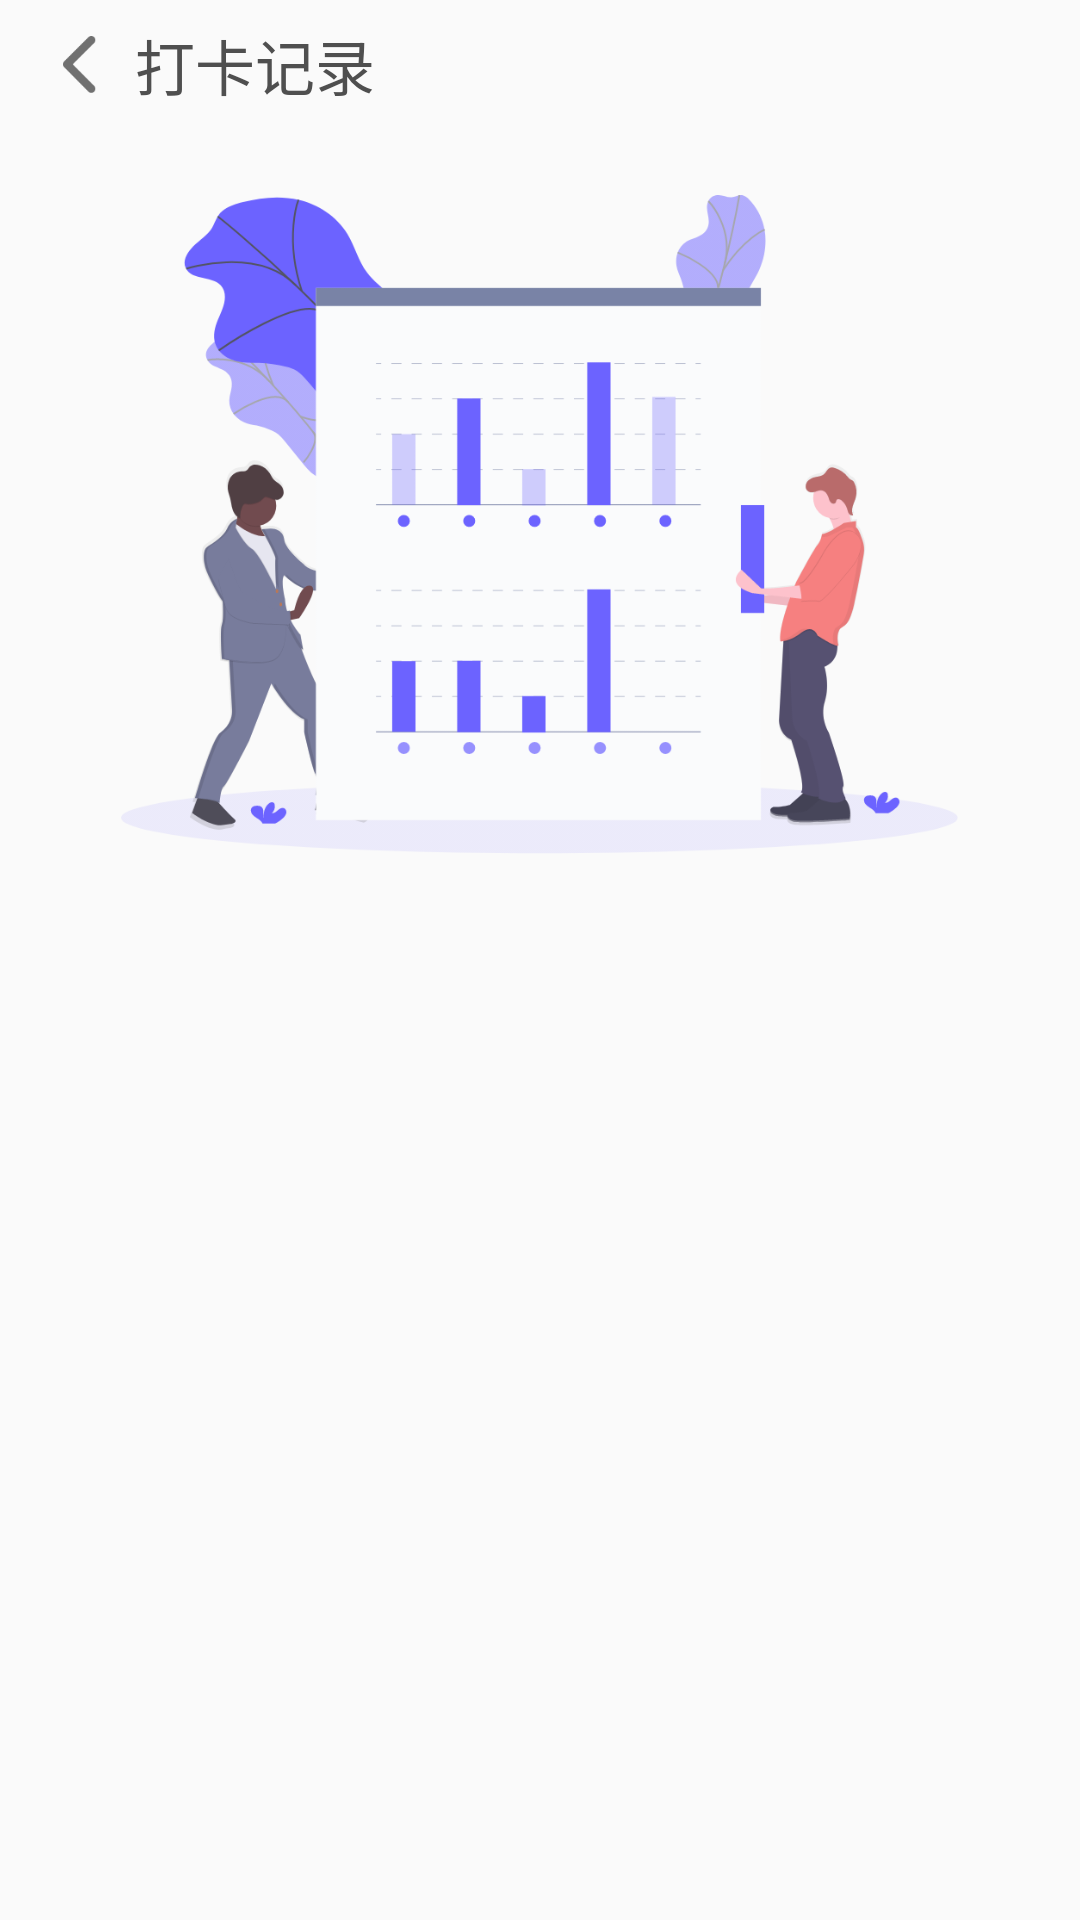

Locate icon controls on the screen. Image size 1080*1920, boxes as (x1, y1, x2, y2).
back: (63, 36, 96, 93)
